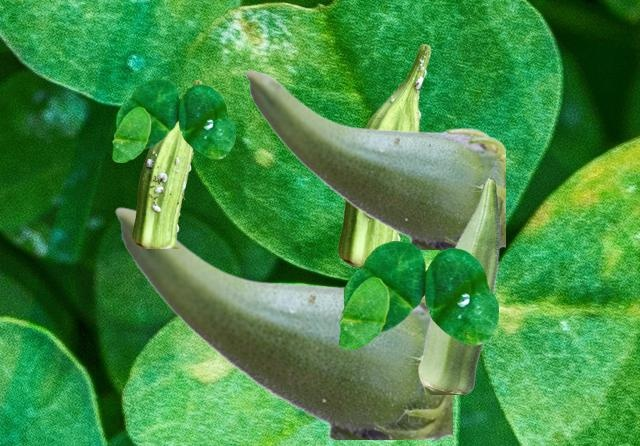okra: (114, 206, 451, 438), (244, 69, 504, 248), (338, 44, 430, 265), (418, 177, 499, 393), (132, 80, 201, 247)
